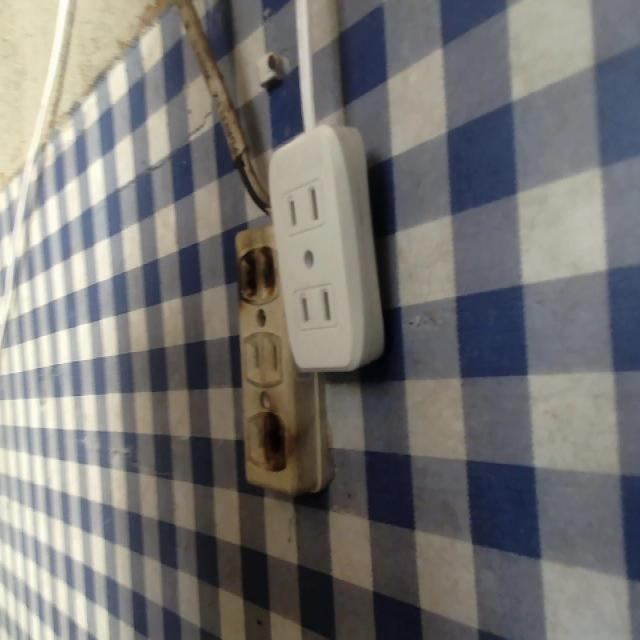-: (235, 245, 278, 307), (261, 414, 289, 470)
